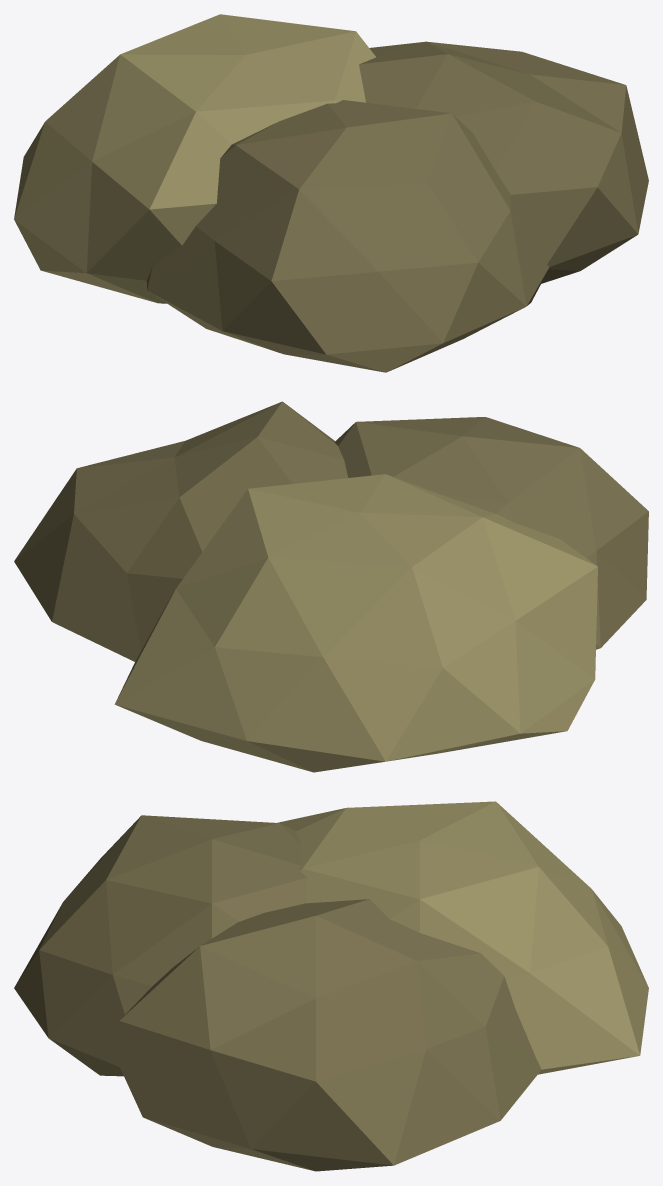
Rendered from bush_dry.glb.
3 renders of one model, top to bottom at view 1: azimuth 30°, elevation 25°; view 2: azimuth 150°, elevation 25°; view 3: azimuth 270°, elevation 25°, orthographic. The views are drawn at different scales.
Visible parts, largest first — view 1: bush_dry; view 2: bush_dry; view 3: bush_dry.
Part boxes in pixels (left/top/right/bottom): bush_dry: left=14, top=14, right=648, bottom=372; bush_dry: left=14, top=401, right=648, bottom=772; bush_dry: left=14, top=801, right=648, bottom=1171.
Bounding box in the file's own units: 1.34 × 0.3818 × 1.28.
